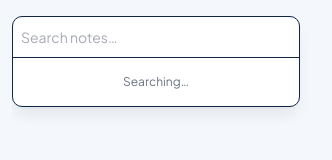
Test case: WikilinkAutocomplete › offers Create once a successful search finds no exact title
Later steps or results of the test are not shown.
Step 1. Type "Brand new idea" into the field labelled "Search notes" → (156, 37), box top-left (21, 27), bottom-right (291, 47)
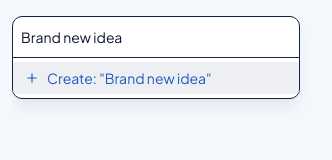
Result: the text "Create: \"Brand new idea\"" is shown at top-left (47, 68), bottom-right (212, 88)
